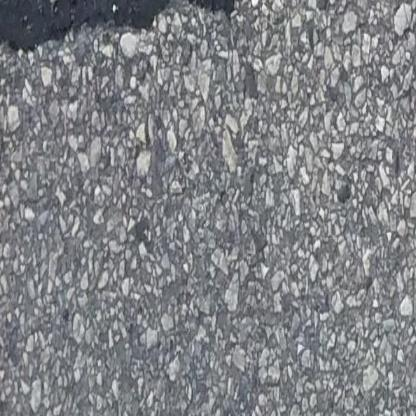Cracks: (0, 0, 256, 67)
